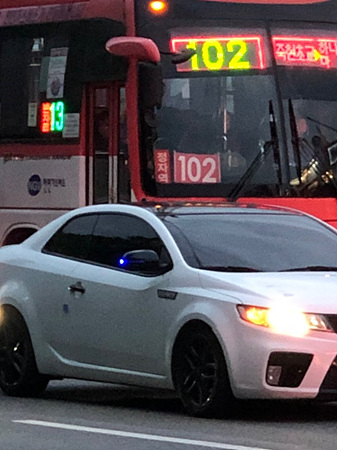bnum: (173, 151, 219, 183)
